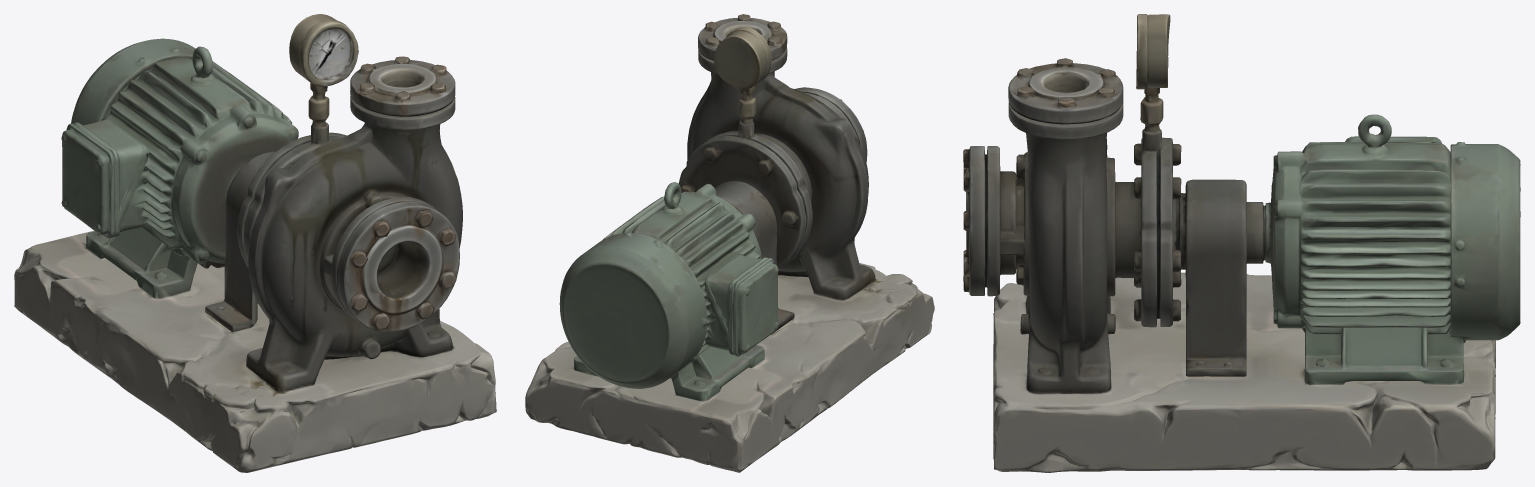
File: silo81_pump.glb
3 renders of one model, left to right at view 1: azimuth 30°, elevation 25°; view 2: azimuth 150°, elevation 25°; view 3: azimuth 270°, elevation 25°, orthographic. The views are drawn at different scales.
Parts seen in each view (by area): view 1: tripo_node_9662b068-3a46-489c-9d3f-b4d489d3a9db; view 2: tripo_node_9662b068-3a46-489c-9d3f-b4d489d3a9db; view 3: tripo_node_9662b068-3a46-489c-9d3f-b4d489d3a9db.
Boxes of the visible parts, x1=… form: tripo_node_9662b068-3a46-489c-9d3f-b4d489d3a9db: x1=14, y1=14, x2=496, y2=472; tripo_node_9662b068-3a46-489c-9d3f-b4d489d3a9db: x1=525, y1=14, x2=934, y2=472; tripo_node_9662b068-3a46-489c-9d3f-b4d489d3a9db: x1=963, y1=14, x2=1520, y2=472.
Size of the model in its own units: 0.5652 by 0.793 by 0.9801.
Materials: 1 (1 with a texture image).
